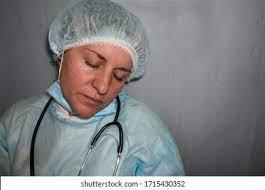sleep: (34, 1, 170, 150)
